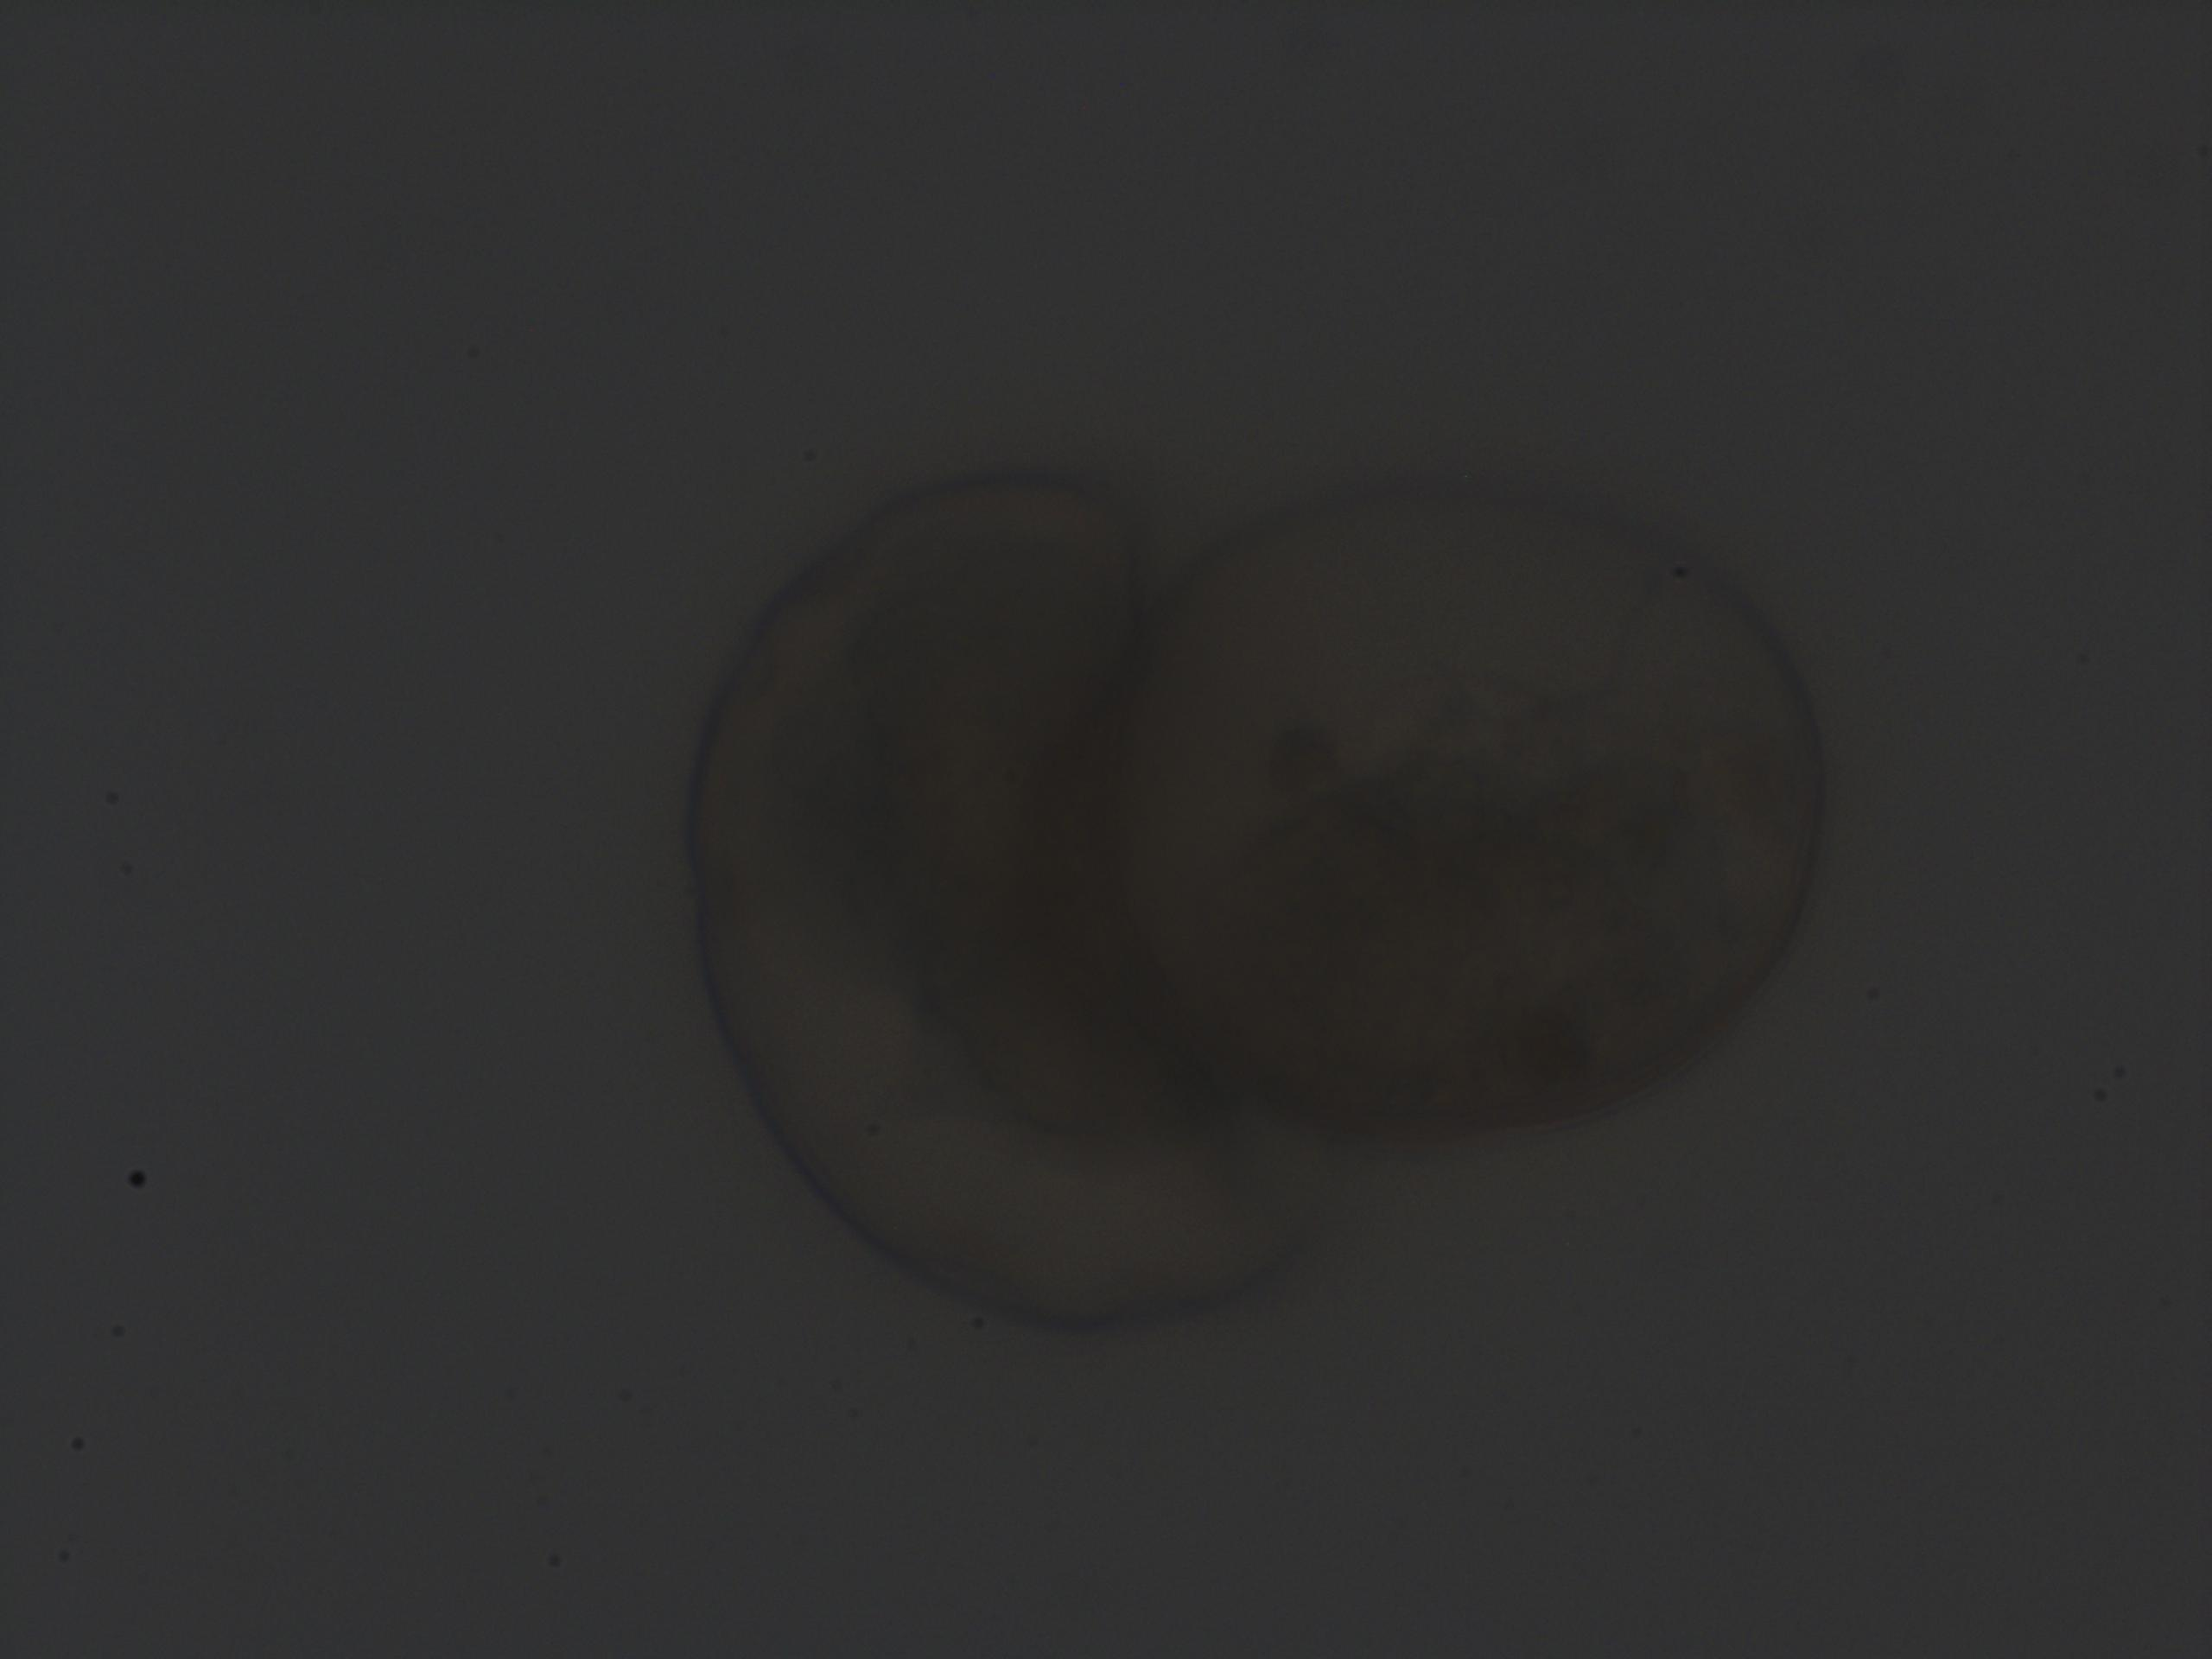protozoa: (672, 439, 1299, 1370), (1106, 464, 1850, 1159)
